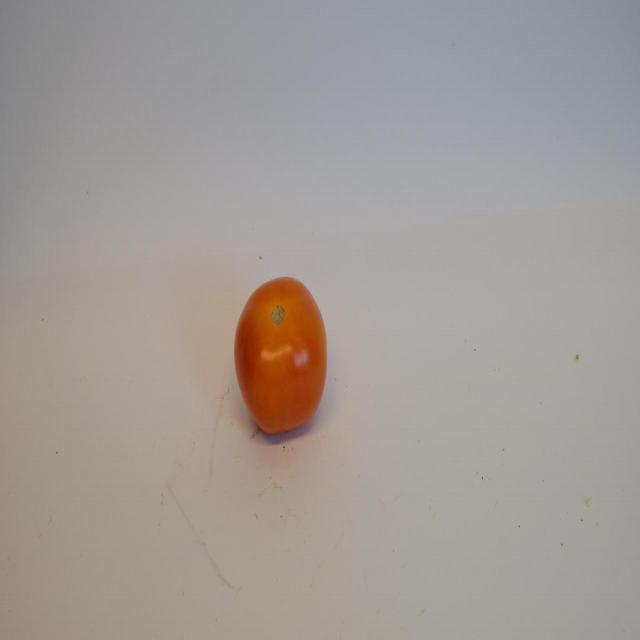tomato: (231, 277, 330, 440)
